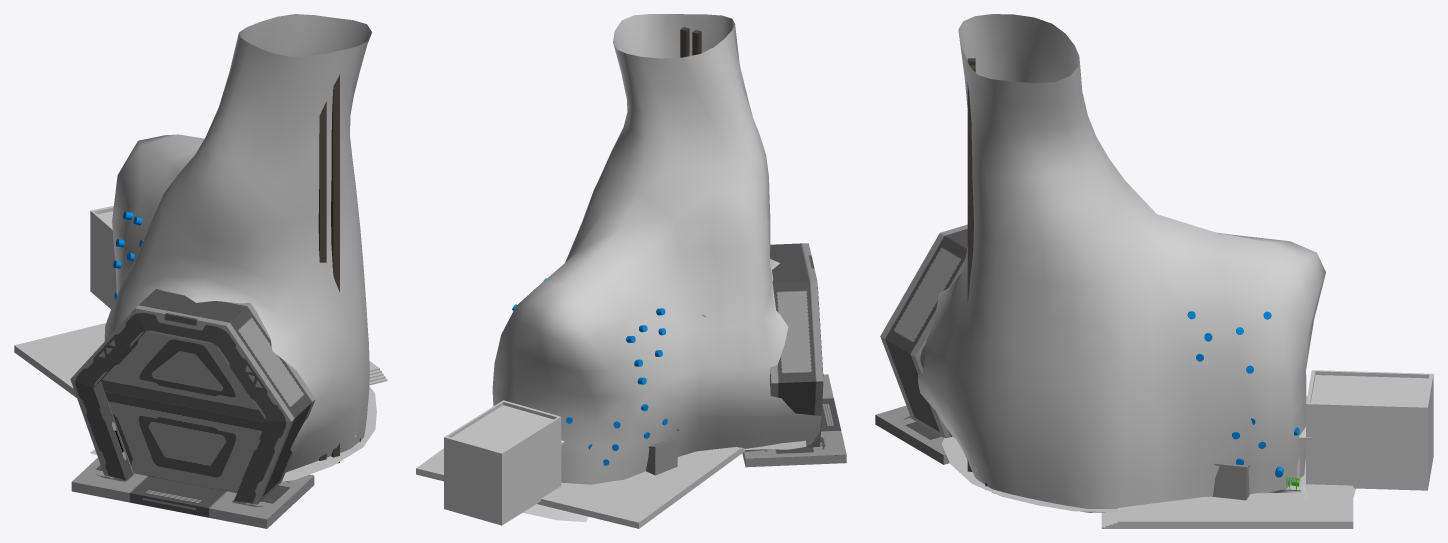
Rendered from blockout_mapa_take_2.fbx.
3 renders of one model, left to right at view 1: azimuth 30°, elevation 25°; view 2: azimuth 150°, elevation 25°; view 3: azimuth 270°, elevation 25°, orthographic. The views are drawn at different scales.
Visible parts, largest first — view 1: cave_system, door_arch_low_poly, door_lower_low_poly, door_upper_low_poly, door_base_low_poly, concrete_floor, elevator_shafts, bank, cave_system.001; view 2: cave_system, bank, door_arch_low_poly, concrete_floor, door_base_low_poly, cave_system.001, big_store, elevator_shafts; view 3: cave_system, bank, concrete_floor, door_arch_low_poly, door_base_low_poly, cave_system.001, elevator_shafts, gun_store.
Part boxes in pixels (x1=…): cave_system: x1=104, y1=14, x2=372, y2=472; door_arch_low_poly: x1=70, y1=289, x2=315, y2=504; door_lower_low_poly: x1=104, y1=391, x2=265, y2=492; door_upper_low_poly: x1=101, y1=331, x2=266, y2=422; door_base_low_poly: x1=71, y1=458, x2=314, y2=528; concrete_floor: x1=14, y1=323, x2=387, y2=397; elevator_shafts: x1=318, y1=74, x2=339, y2=463; bank: x1=90, y1=205, x2=116, y2=309; cave_system.001: x1=90, y1=386, x2=376, y2=481; cave_system: x1=492, y1=14, x2=821, y2=484; bank: x1=444, y1=400, x2=561, y2=525; door_arch_low_poly: x1=770, y1=243, x2=823, y2=447; concrete_floor: x1=416, y1=447, x2=745, y2=528; door_base_low_poly: x1=742, y1=374, x2=846, y2=467; cave_system.001: x1=523, y1=440, x2=806, y2=522; big_store: x1=646, y1=437, x2=679, y2=475; elevator_shafts: x1=680, y1=27, x2=701, y2=57; cave_system: x1=918, y1=14, x2=1325, y2=512; bank: x1=1306, y1=370, x2=1433, y2=490; concrete_floor: x1=1101, y1=396, x2=1353, y2=528; door_arch_low_poly: x1=880, y1=224, x2=967, y2=438; door_base_low_poly: x1=875, y1=405, x2=949, y2=464; cave_system.001: x1=941, y1=437, x2=1355, y2=512; elevator_shafts: x1=967, y1=58, x2=975, y2=471; gun_store: x1=1213, y1=463, x2=1250, y2=500.
Size of the model in its own units: 10092 by 12260 by 14028.
